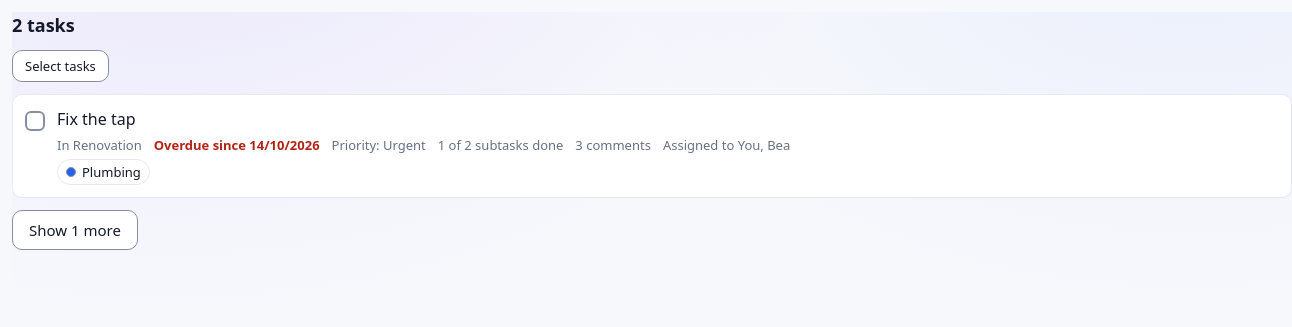
it: TaskList › loads the next page only when asked
Step 1. Click the button with test id "tasks-more" → x=75, y=230, box [12,210,138,250]
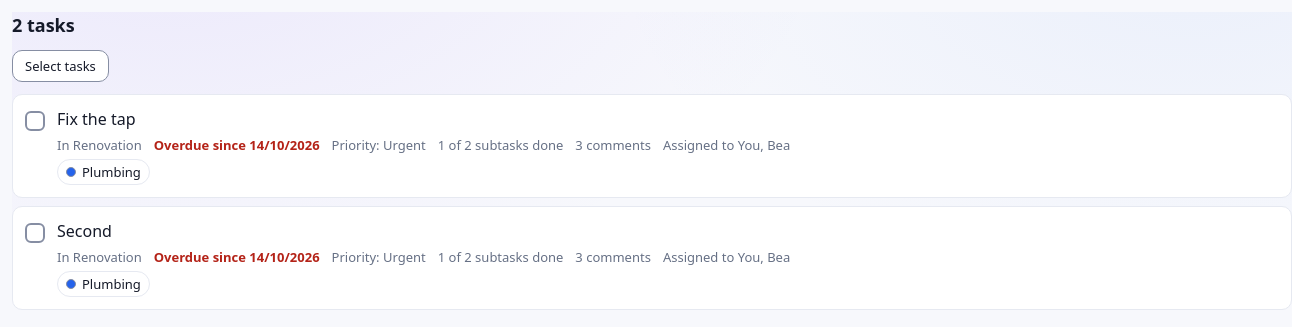
Check: the number of list items with test id "task-row" is 2, box [12,94,1291,198]; [12,206,1291,310]
Check: the button with test id "tasks-more" is gone
